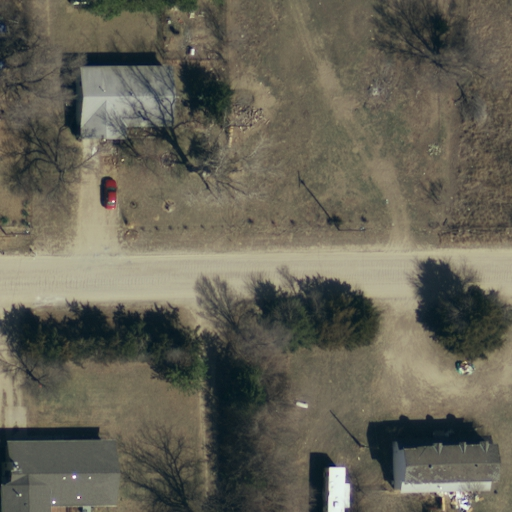DT: (332, 213, 375, 245), (350, 431, 382, 462)
